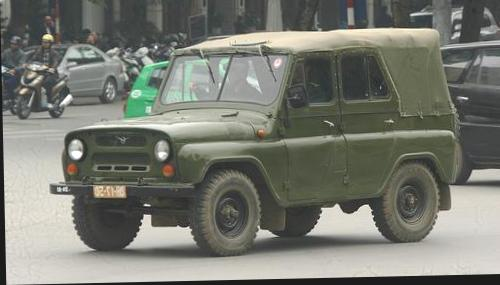License_Plate: (91, 184, 129, 201)
